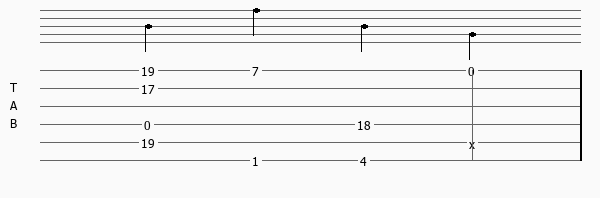0: (144, 118, 155, 131), (468, 64, 479, 77)
1: (252, 154, 263, 167)
17: (141, 82, 159, 95)
18: (357, 118, 375, 131)
19: (141, 64, 159, 77), (141, 136, 159, 149)
4: (360, 154, 371, 167)
7: (252, 64, 263, 77)
x: (469, 137, 479, 148)
